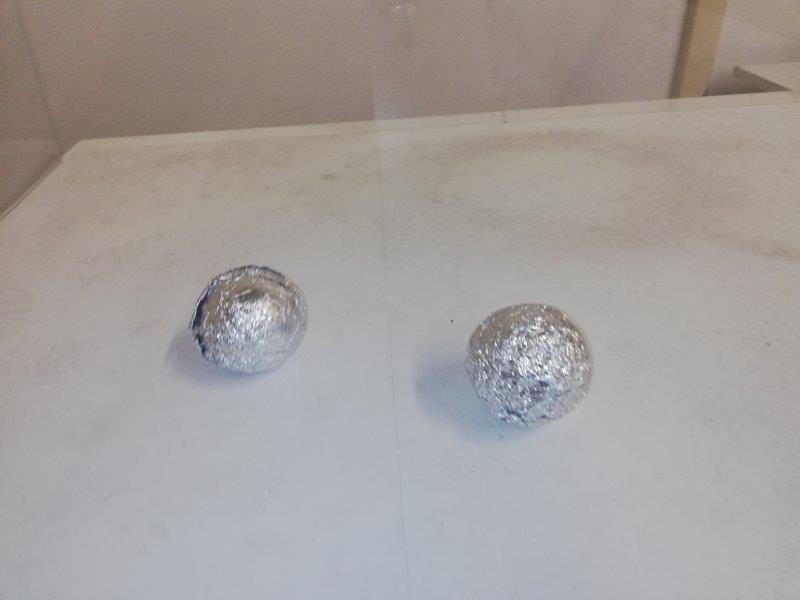bianca: (462, 301, 593, 426), (189, 263, 305, 373)
